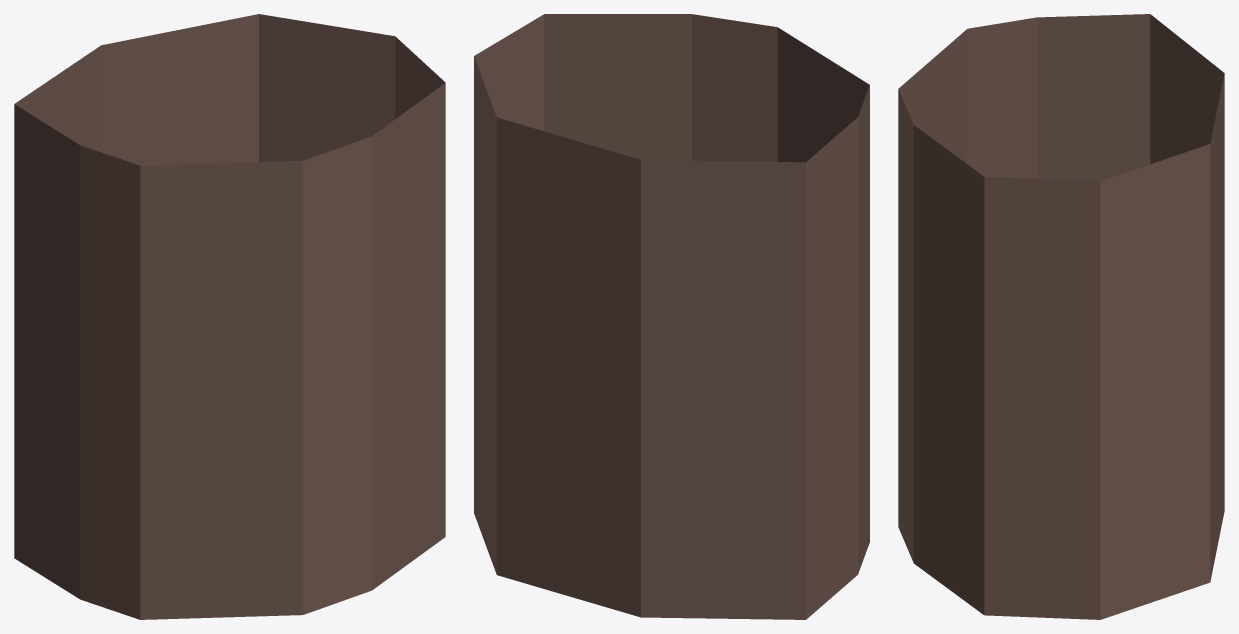
The picture shows the model from 3 angles, left to right: view 1: azimuth 30°, elevation 25°; view 2: azimuth 150°, elevation 25°; view 3: azimuth 270°, elevation 25°; orthographic projection. The views are drawn at different scales.
Visible parts, largest first — view 1: stone03.004; view 2: stone03.004; view 3: stone03.004.
Part boxes in pixels (x1,y1,x2,y2): stone03.004: (14, 14, 445, 619); stone03.004: (474, 14, 869, 619); stone03.004: (898, 14, 1224, 619).
Bounding box in the file's own units: 3267 × 3993 × 2690.
